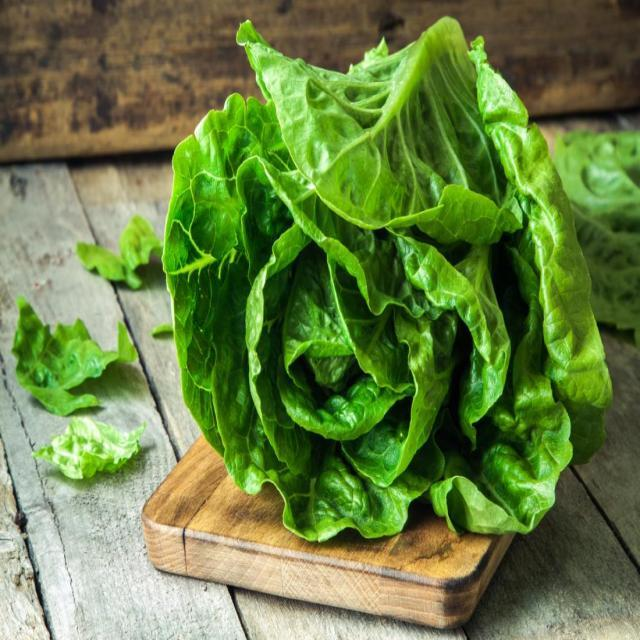Lettuce: (157, 18, 613, 544)
